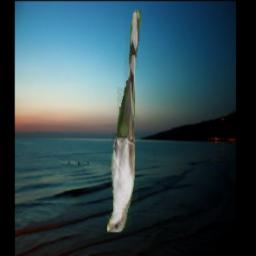Cuckoo: (106, 10, 140, 232)
